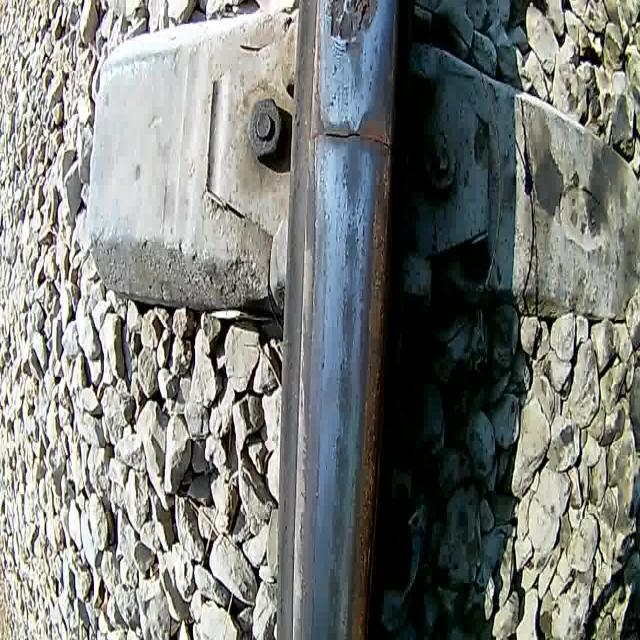Cracks: (353, 152, 368, 264), (337, 282, 349, 396), (323, 30, 348, 70), (340, 158, 350, 226), (334, 420, 344, 486), (350, 286, 360, 335), (343, 216, 351, 274)
Joint: (302, 116, 403, 168)
Spallings: (324, 0, 374, 43)
Squats: (322, 0, 384, 99), (338, 140, 368, 216), (320, 561, 348, 640), (334, 278, 361, 358), (324, 495, 351, 572), (329, 428, 354, 506), (334, 353, 357, 436), (338, 220, 366, 274)
